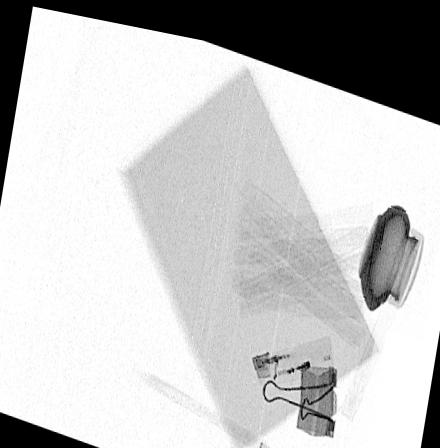Lighter: (251, 320, 334, 376)
